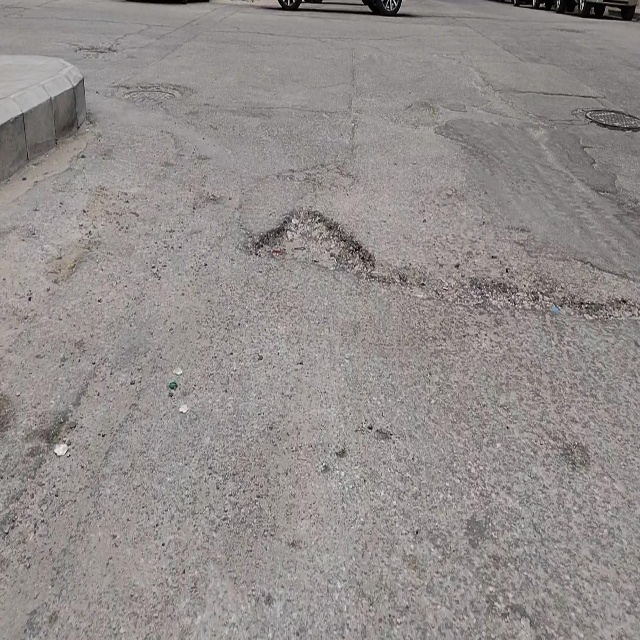pothole: (250, 204, 376, 281)
